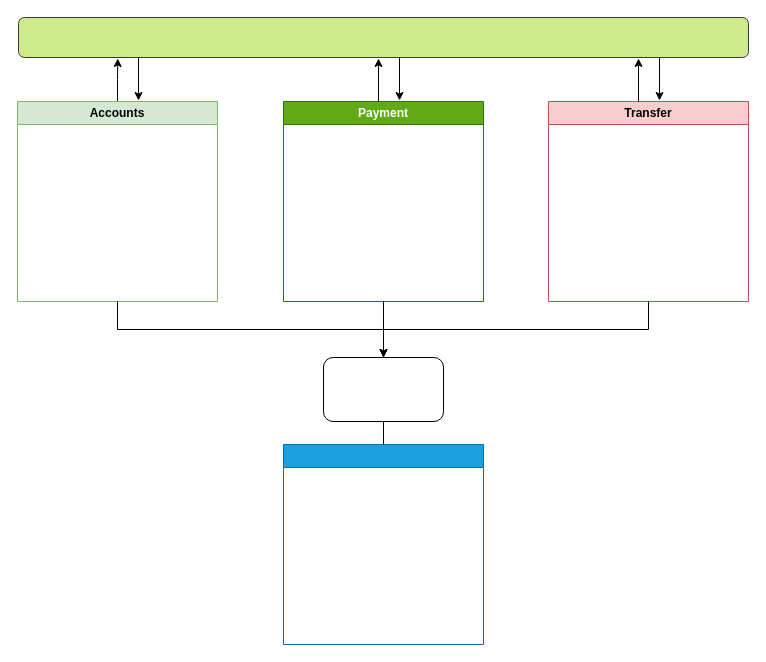
Image size: 766x662. Some labels were removed from this diagram. The box of each missing label's shape, as (x1, y1, x2, y2) in pixels:
Notification: (282, 444, 484, 644)
Rabbit Mq: (18, 16, 748, 58)
